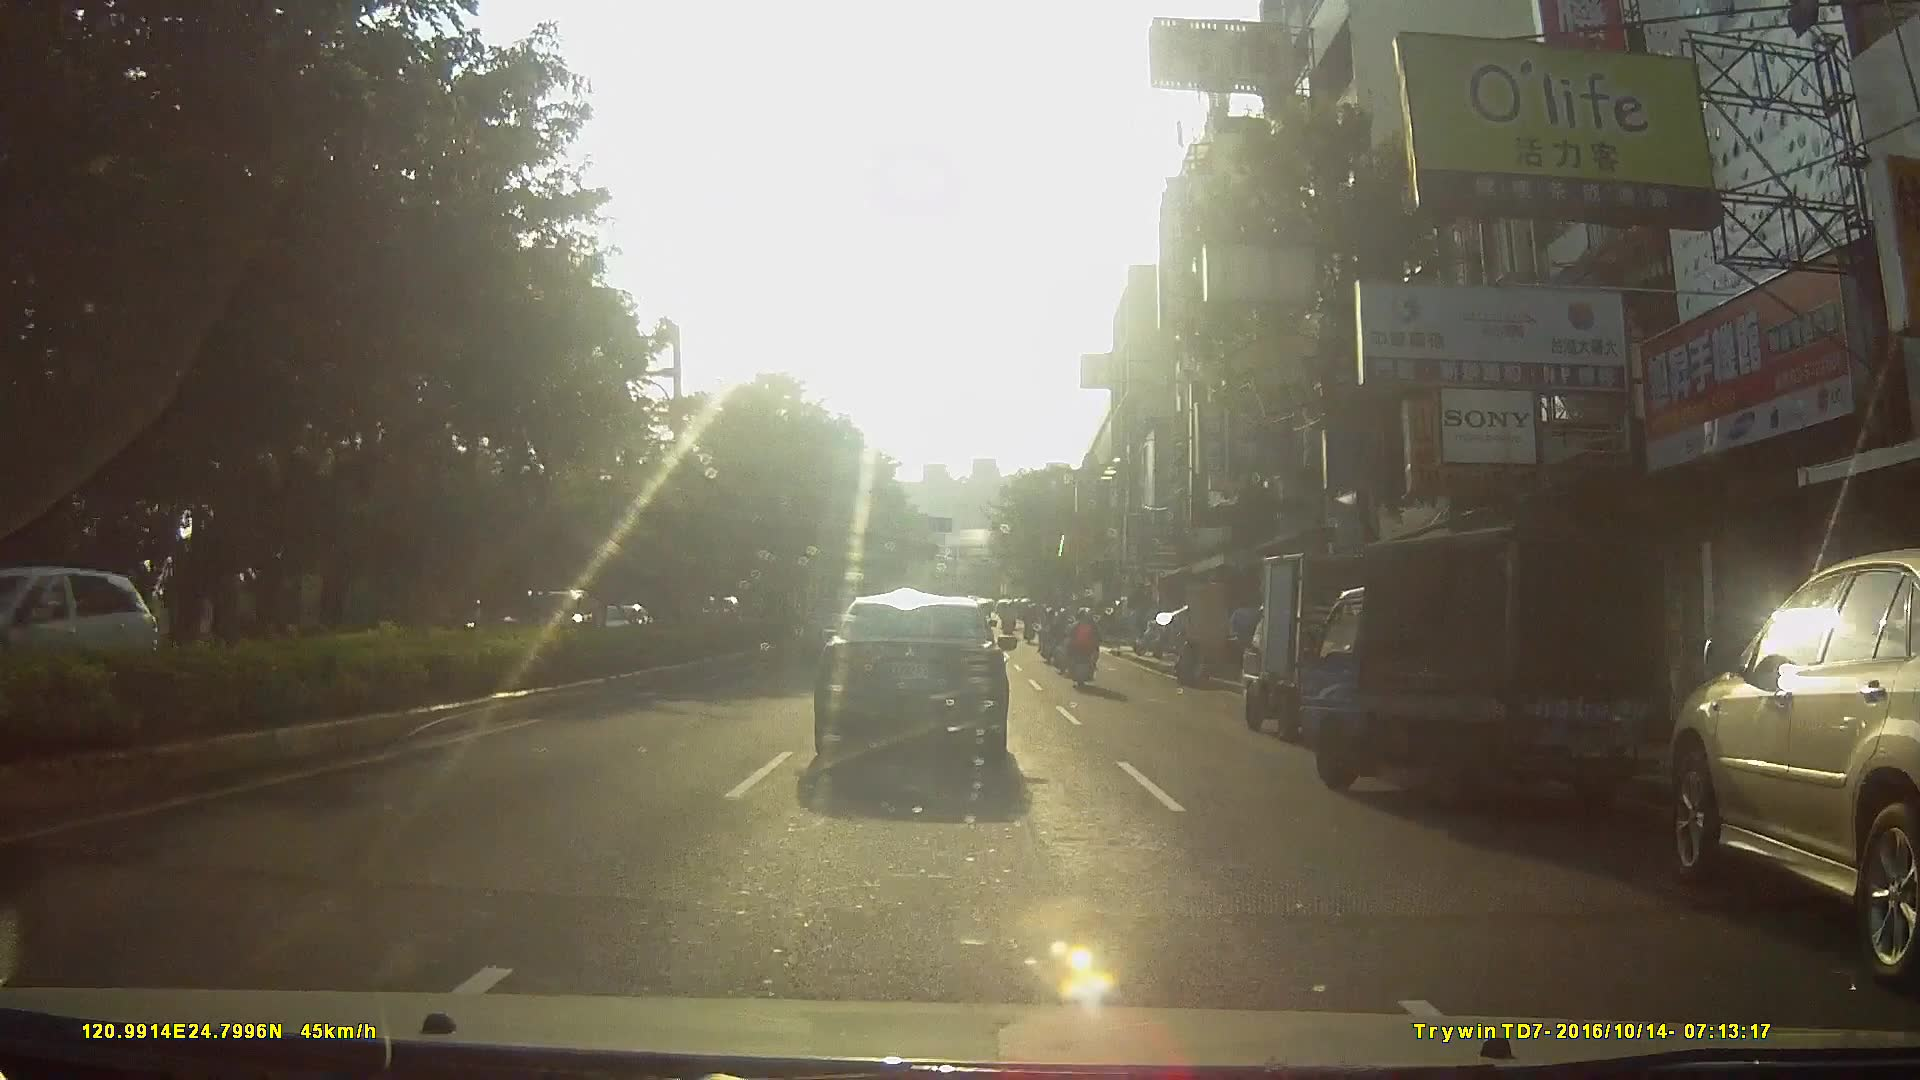rider: (1060, 607, 1103, 695), (1040, 606, 1060, 663)
vehicle: (1302, 507, 1723, 831), (1654, 552, 1920, 994), (1230, 541, 1458, 747), (812, 588, 1031, 781), (1, 564, 180, 689)
